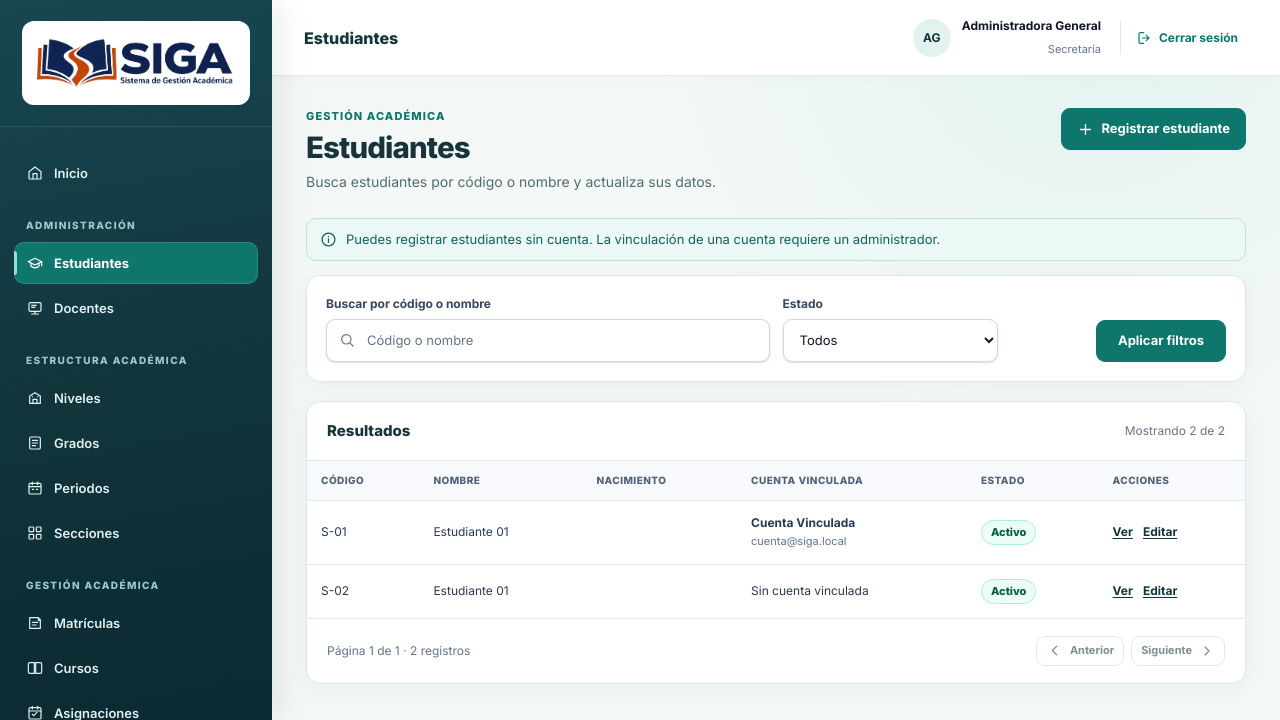
Scenario: Estudiante muestra nombre y correo de su cuenta; SECRETARIA no recibe enlace de edición
Expected: the text "Cuenta Vinculada" is shown, [751,515,855,530]
Expected: the text "cuenta@siga.local" is shown, [751,534,846,548]
Click the button "Ver" in the row of "S-01": (1123, 532) [1113,524,1133,541]
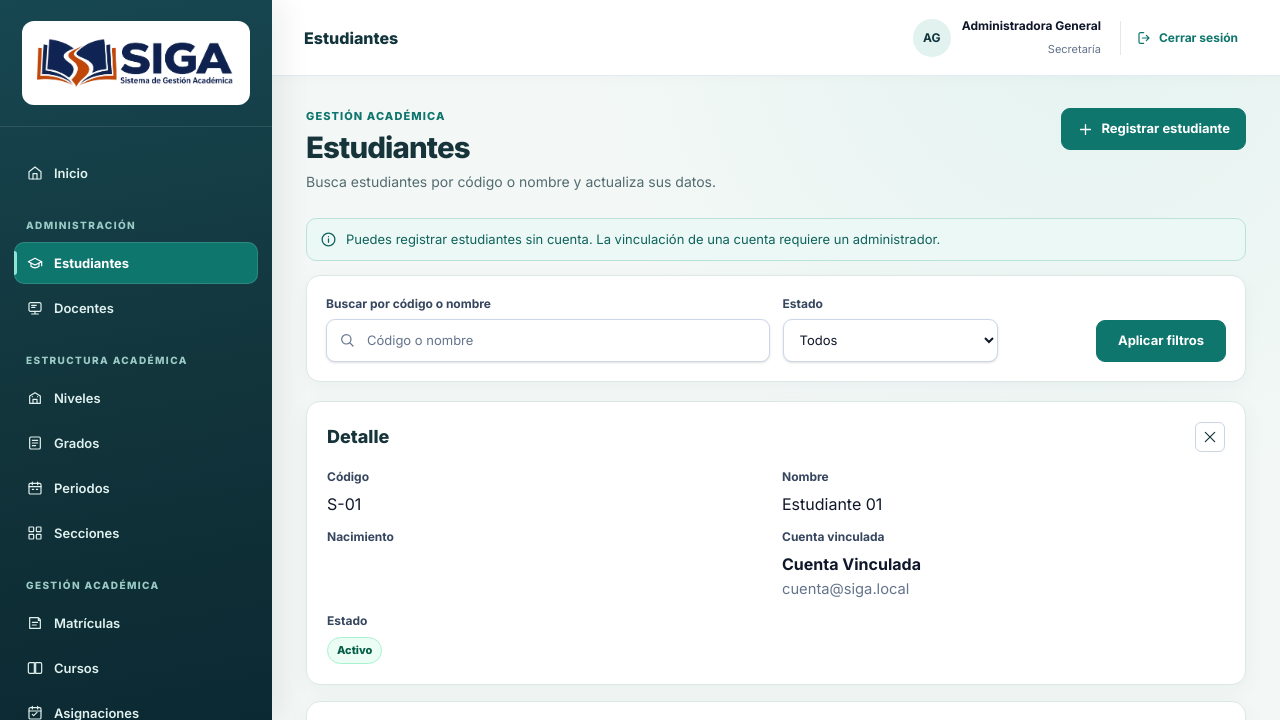
Now the heading "Detalle" is shown, box [327,423,389,450]
